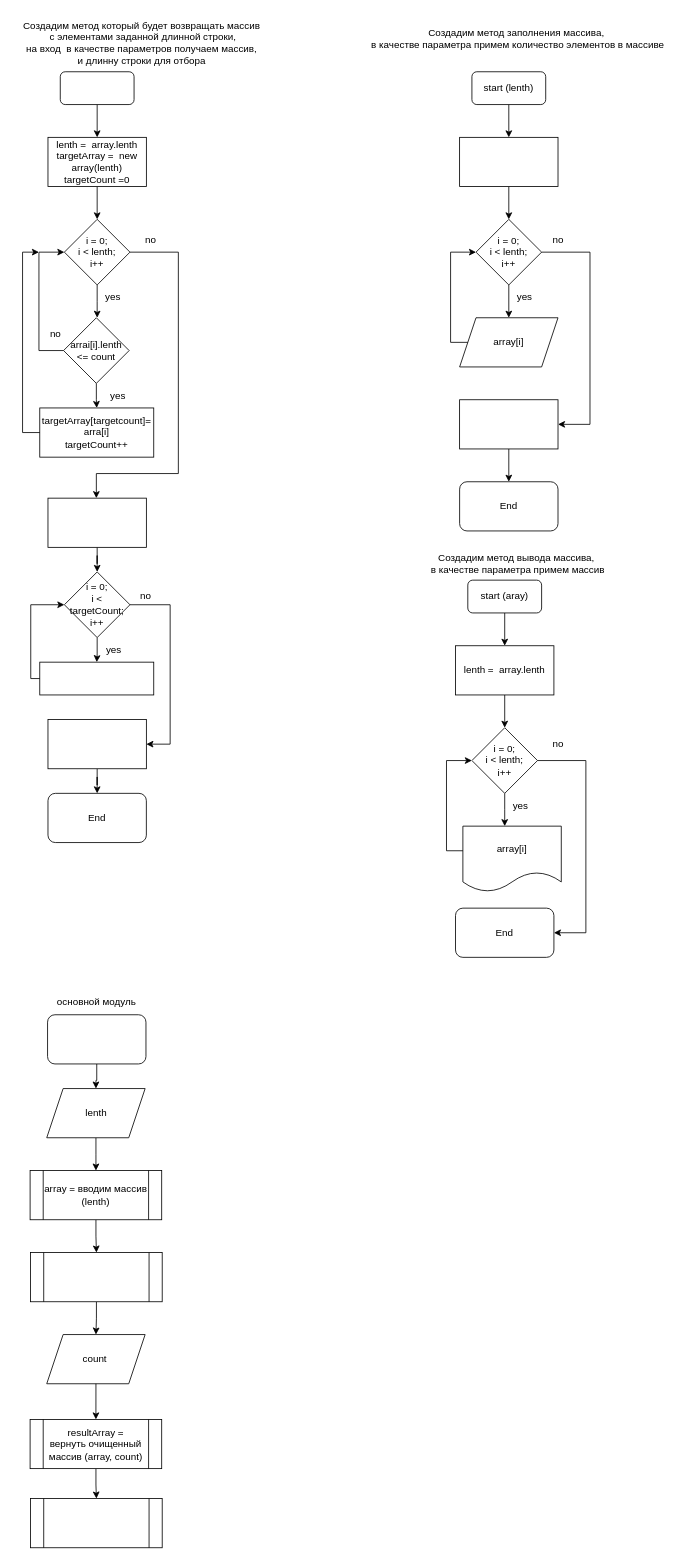
This 686x1562 diagram has some shape labels left out. The shapes that lost their labels are listed below. From the top down, each one's centre as x and y in pixels, then its label:
the point at 96,88: start (array, count)
the point at 508,162: array = new aray(lenth)
the point at 508,424: return array
the point at 96,522: resultArray = new array[targetCount]
the point at 96,678: resultArray[i] = targetArray[i]
the point at 96,744: return resultArray
the point at 96,1039: start
the point at 96,1277: выводим массив (array)
the point at 96,1523: выводим массив (resultArray)
